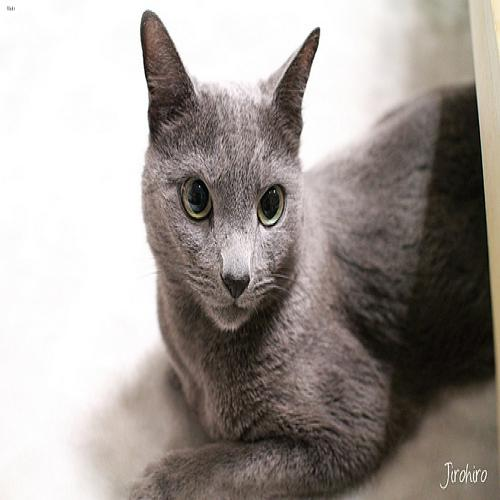rblue: (136, 9, 328, 345)
